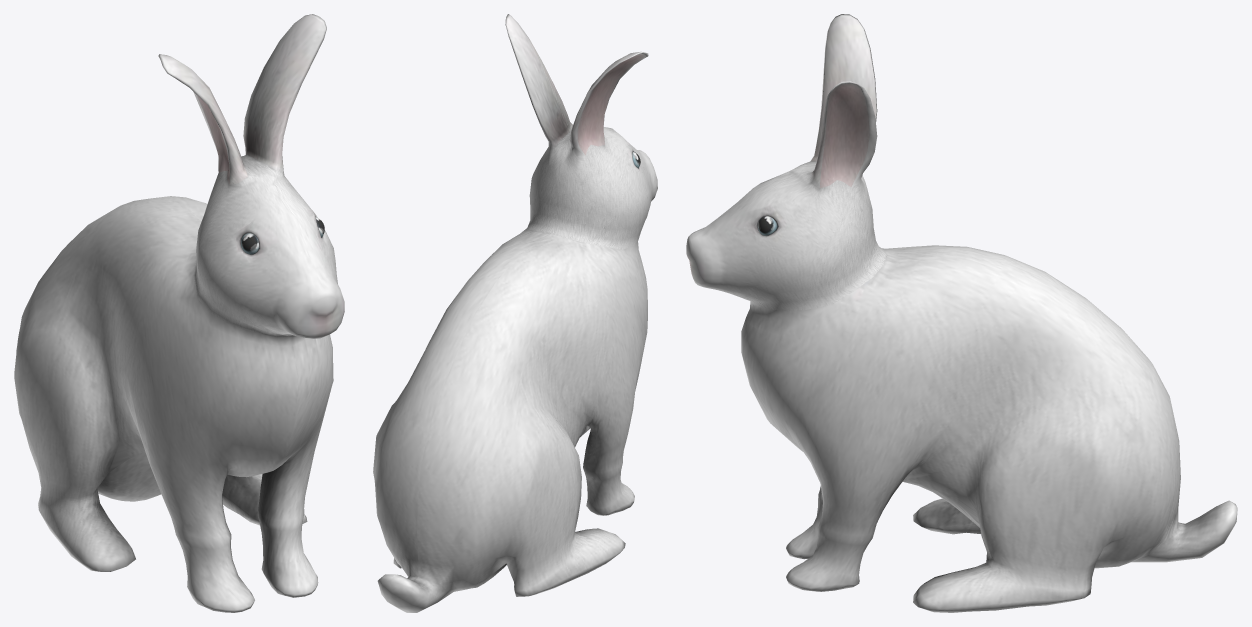
File: rabbit ok.glb
The picture shows the model from 3 angles, left to right: view 1: azimuth 30°, elevation 25°; view 2: azimuth 150°, elevation 25°; view 3: azimuth 270°, elevation 25°; orthographic projection. The views are drawn at different scales.
Visible parts, largest first — view 1: rabbitobjcleanermaterialmergergles; view 2: rabbitobjcleanermaterialmergergles; view 3: rabbitobjcleanermaterialmergergles.
Part boxes in pixels (bbox=[...]): rabbitobjcleanermaterialmergergles: bbox=[14, 14, 344, 612]; rabbitobjcleanermaterialmergergles: bbox=[373, 14, 657, 612]; rabbitobjcleanermaterialmergergles: bbox=[686, 14, 1237, 612].
Size of the model in its own units: 0.1968 by 0.472 by 0.4542.
Materials: 1 (1 with a texture image).
